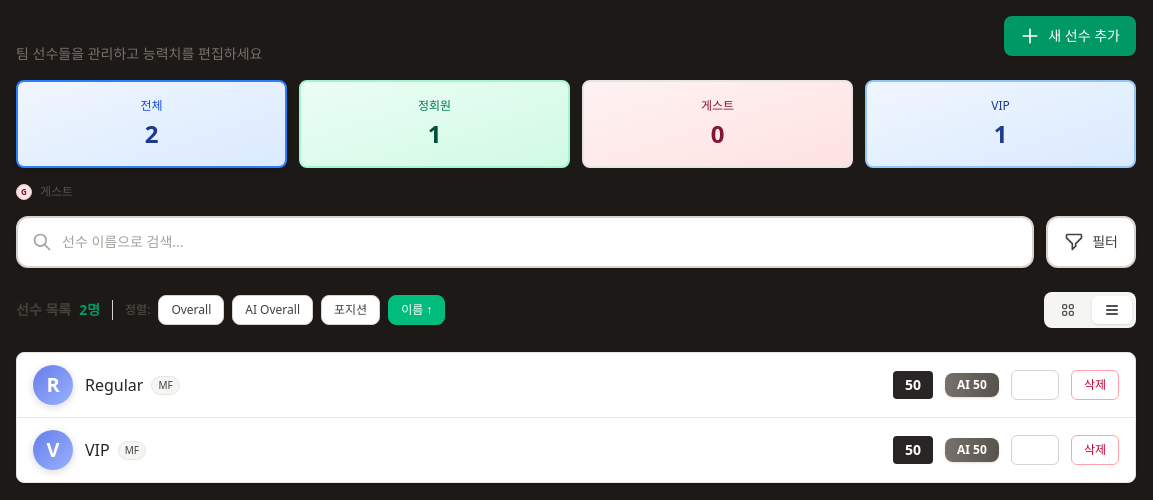
PlayersPage - bug hunting › 커스텀 멤버십 삭제 시 필터가 자동으로 all로 리셋되어 전체가 보인다
Click the 1st text "VIP": (1000, 106) [991,97,1010,114]
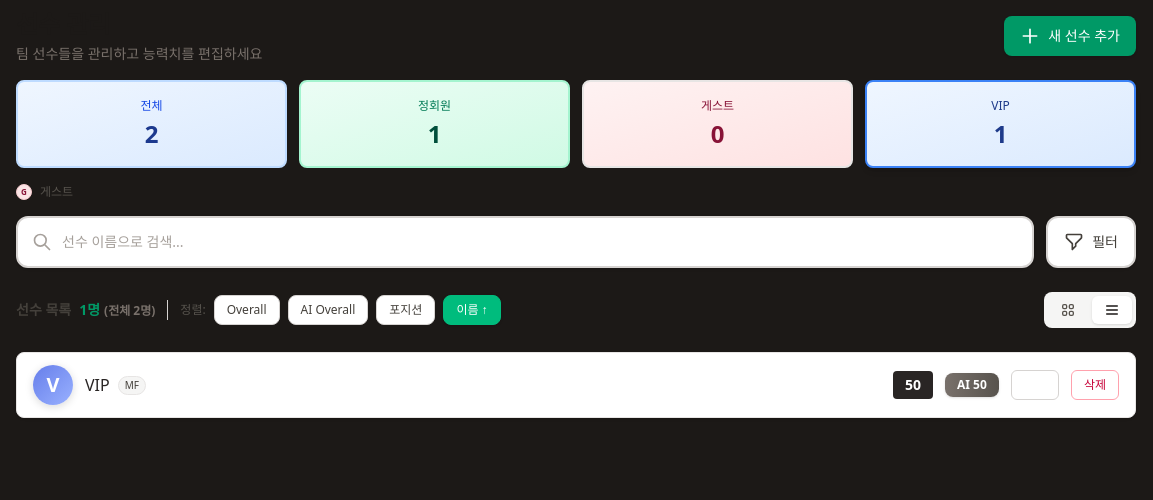
Result: the number of list items is 1 at [17,353,1135,417]
